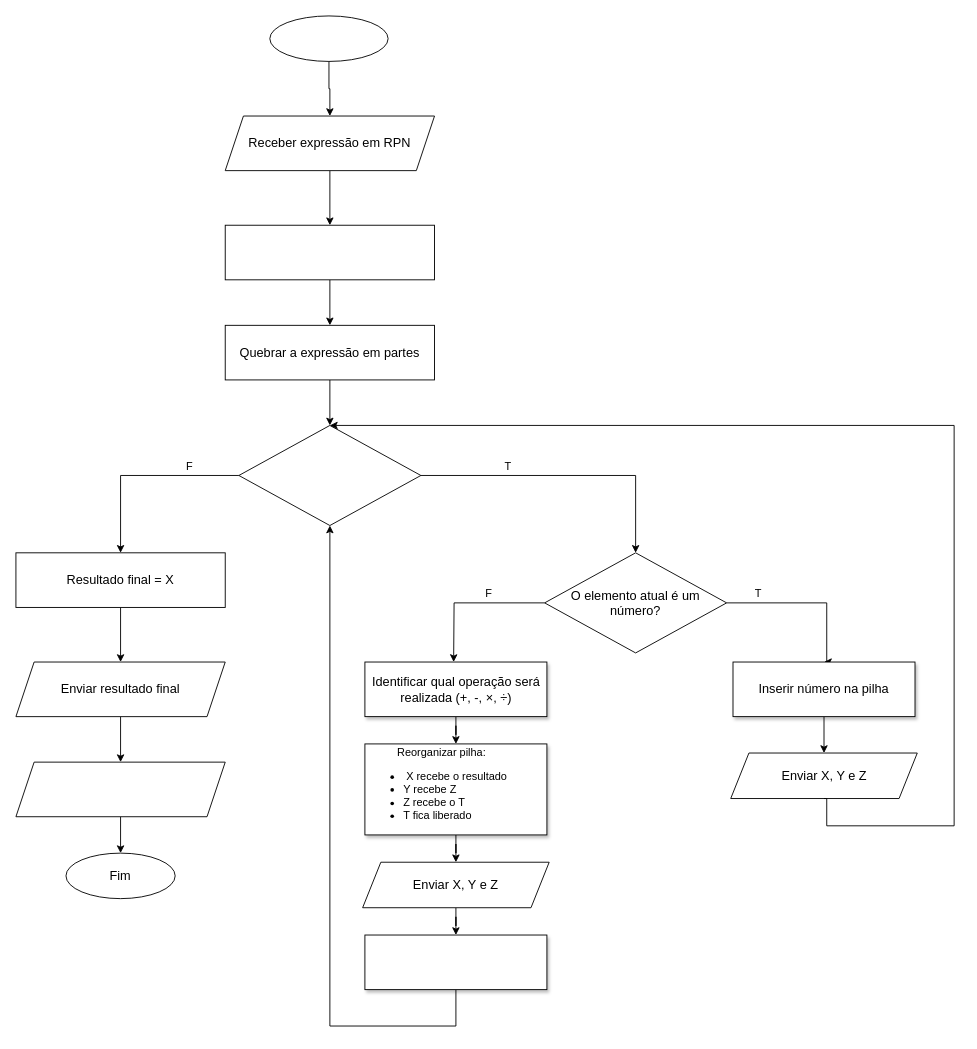
The diagram is 977 pixels wide and 1049 high, and some of its shapes have lost their labels. Here are the shapes that lost their labels. From the top down, the centre of each, then its label:
the point at 328,38: Início
the point at 329,252: Configurar pilha com X = 0, Y = 0, Z = 0, T = 0
the point at 329,475: Ainda há elementos para leitura?
the point at 120,789: Enviar notação algébrica
the point at 456,963: Guardar notação algébrica
